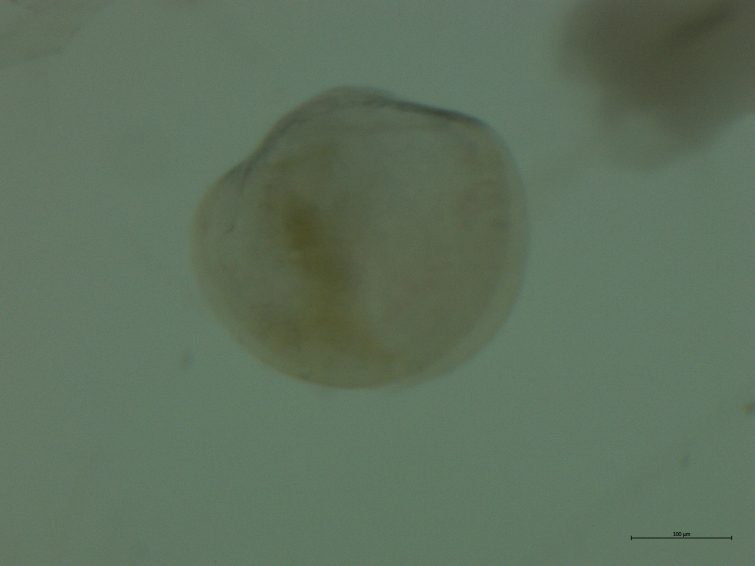oyster: (174, 77, 538, 403)
